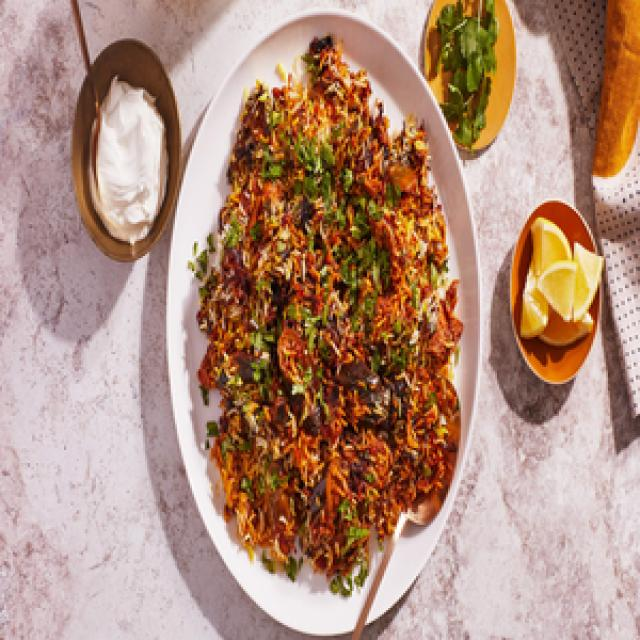chicken biriyani: (179, 18, 474, 602)
